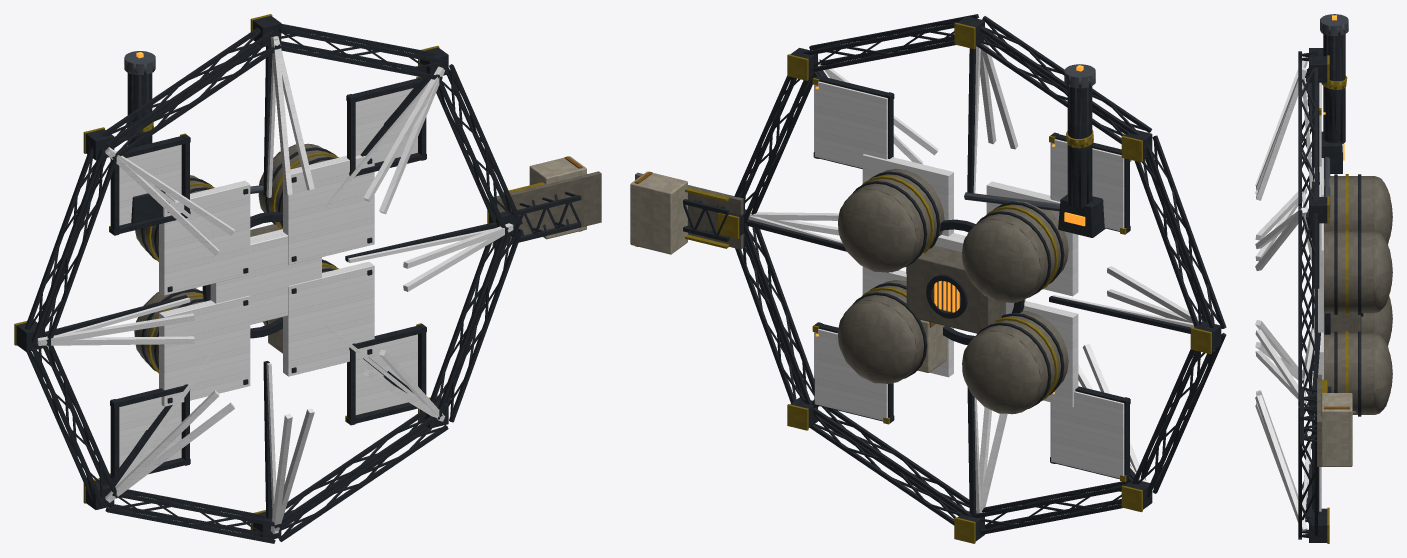
Rendered from place_claim_outpost_refinery.glb.
The picture shows the model from 3 angles, left to right: view 1: azimuth 30°, elevation 25°; view 2: azimuth 150°, elevation 25°; view 3: azimuth 270°, elevation 25°; orthographic projection. The views are drawn at different scales.
Visible parts, largest first — view 1: LOD0_MechanicalDark, LOD0_Armor, LOD1_Armor, LOD1_MechanicalDark, LOD0_Hull_aged, LOD0_Warning, LOD0_Hull, LOD1_Hull, LOD2_Armor, LOD0_Mechanical; view 2: LOD0_Armor, LOD0_MechanicalDark, LOD0_Hull_aged, LOD1_Armor, LOD0_Warning, LOD2_Hull_aged, LOD1_Hull_aged, LOD0_Hull, LOD1_MechanicalDark, LOD1_Hull, LOD2_Armor, LOD0_Mechanical (+1 smaller); view 3: LOD0_Armor, LOD0_Hull_aged, LOD0_MechanicalDark, LOD1_Armor, LOD0_Hull, LOD1_MechanicalDark, LOD0_Warning, LOD2_Hull_aged, LOD2_Armor, LOD1_Hull, LOD1_Hull_aged, LOD0_Mechanical (+1 smaller).
Part boxes in pixels (bbox=[...]): LOD0_MechanicalDark: bbox=[37, 36, 513, 534]; LOD0_Armor: bbox=[16, 16, 581, 543]; LOD1_Armor: bbox=[26, 23, 581, 543]; LOD1_MechanicalDark: bbox=[38, 37, 513, 533]; LOD0_Hull_aged: bbox=[134, 143, 601, 369]; LOD0_Warning: bbox=[14, 14, 545, 530]; LOD0_Hull: bbox=[268, 156, 586, 353]; LOD1_Hull: bbox=[268, 157, 586, 352]; LOD2_Armor: bbox=[26, 29, 521, 530]; LOD0_Mechanical: bbox=[124, 51, 263, 193]; LOD0_Armor: bbox=[683, 14, 1226, 541]; LOD0_MechanicalDark: bbox=[748, 40, 1202, 513]; LOD0_Hull_aged: bbox=[635, 168, 1068, 413]; LOD1_Armor: bbox=[683, 15, 1225, 530]; LOD0_Warning: bbox=[685, 22, 1211, 543]; LOD2_Hull_aged: bbox=[838, 194, 1040, 413]; LOD1_Hull_aged: bbox=[838, 191, 1037, 409]; LOD0_Hull: bbox=[630, 171, 946, 372]; LOD1_MechanicalDark: bbox=[749, 44, 1193, 512]; LOD1_Hull: bbox=[630, 172, 946, 372]; LOD2_Armor: bbox=[739, 14, 1213, 518]; LOD0_Mechanical: bbox=[964, 64, 1095, 211]; LOD0_Armor: bbox=[1298, 34, 1363, 542]; LOD0_Hull_aged: bbox=[1317, 176, 1392, 466]; LOD0_MechanicalDark: bbox=[1255, 60, 1324, 531]; LOD1_Armor: bbox=[1298, 51, 1358, 542]; LOD0_Hull: bbox=[1321, 393, 1355, 466]; LOD1_MechanicalDark: bbox=[1255, 67, 1314, 529]; LOD0_Warning: bbox=[1319, 55, 1348, 543]; LOD2_Hull_aged: bbox=[1371, 178, 1392, 414]; LOD2_Armor: bbox=[1298, 34, 1362, 407]; LOD1_Hull: bbox=[1321, 393, 1355, 466]; LOD1_Hull_aged: bbox=[1330, 176, 1392, 414]; LOD0_Mechanical: bbox=[1320, 14, 1348, 217].
Size of what is drawn, in the model's own units: 98.2 by 83.4 by 22.09.
11 materials, 7 textured.
